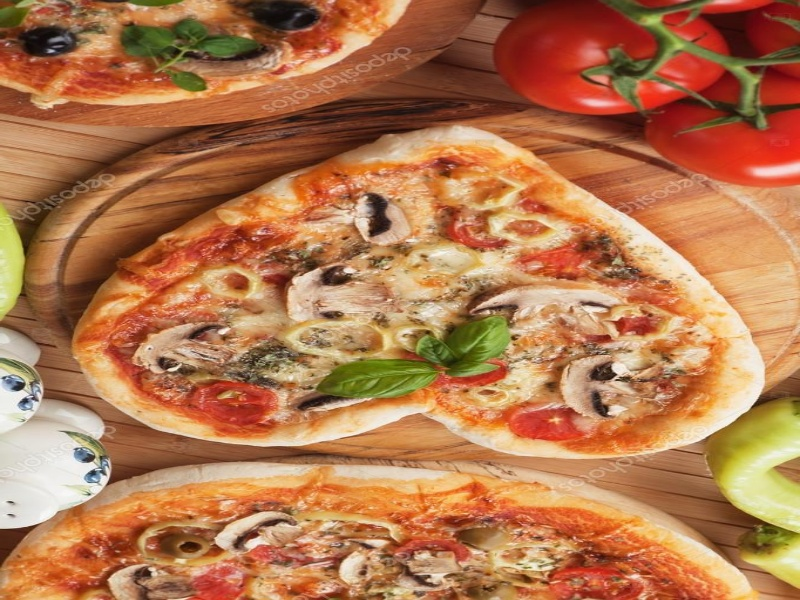champignon: (469, 277, 626, 339), (127, 314, 248, 384), (281, 260, 400, 318), (557, 352, 648, 422), (212, 505, 299, 558), (349, 192, 417, 254)
olive: (156, 527, 218, 566)
